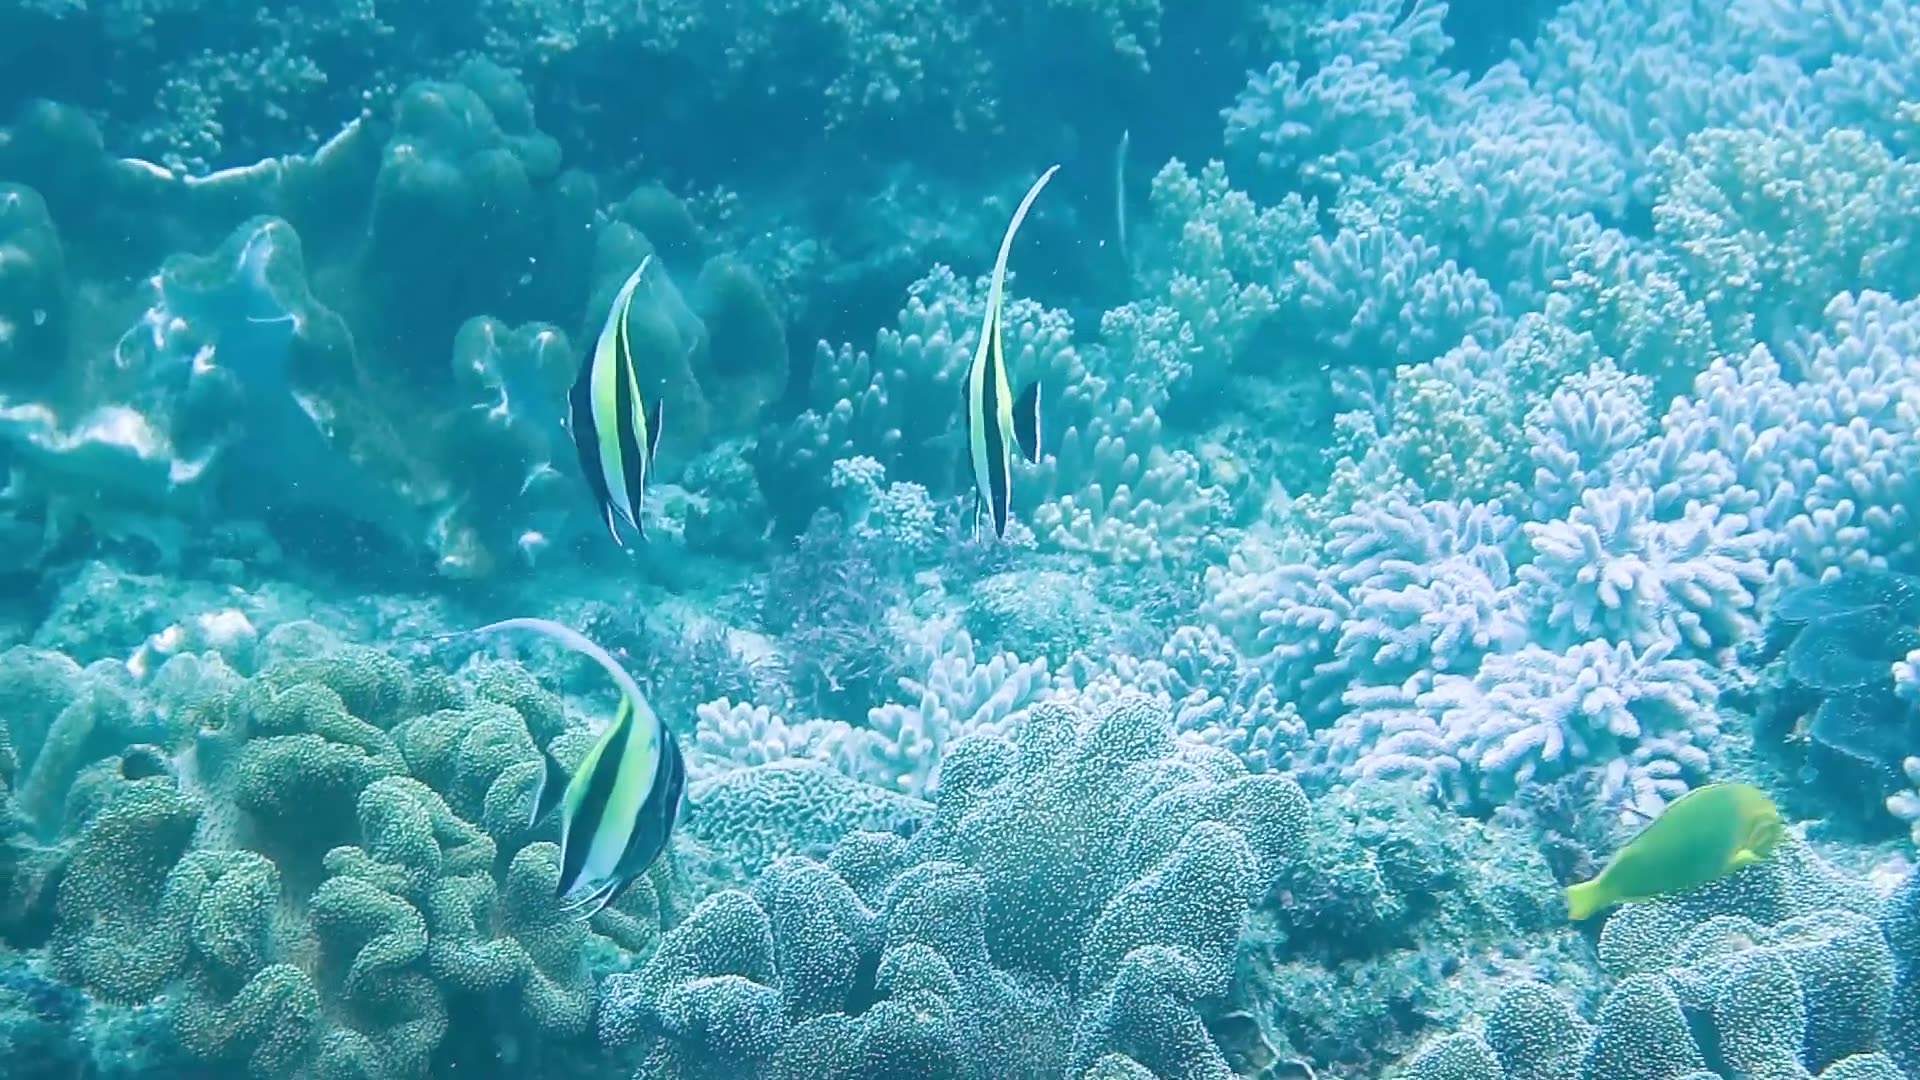Zanclus cornutus: (489, 617, 713, 903), (549, 272, 684, 539), (935, 287, 1054, 582)
